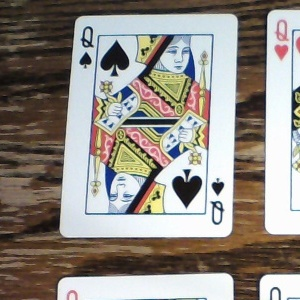card: (60, 12, 239, 237)
